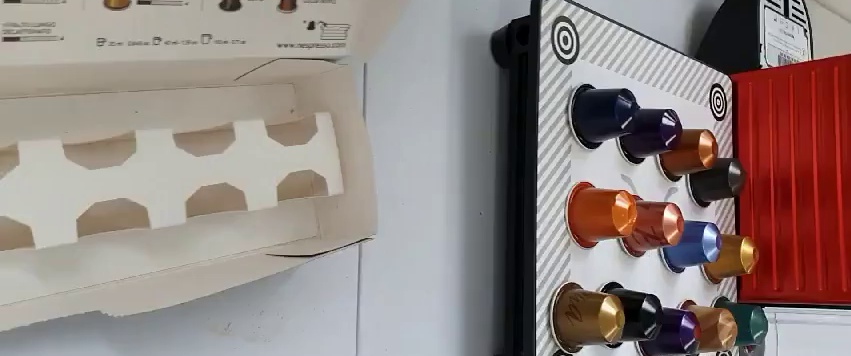capsule_1: (567, 80, 641, 149)
capsule_10: (595, 278, 662, 350)
capsule_11: (637, 306, 702, 356)
capsule_12: (674, 297, 736, 356)
capsule_13: (722, 295, 769, 356)
capsule_2: (621, 103, 681, 161)
capsule_3: (660, 126, 721, 182)
capsule_4: (687, 154, 748, 206)
capsule_5: (564, 176, 634, 249)
capsule_6: (614, 194, 681, 258)
capsule_7: (662, 216, 719, 271)
capsule_8: (701, 228, 758, 282)
capsule_9: (544, 279, 615, 353)
